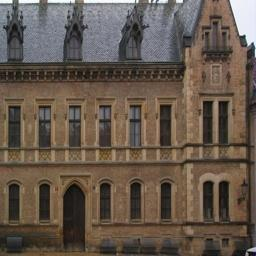building: (1, 0, 249, 248)
